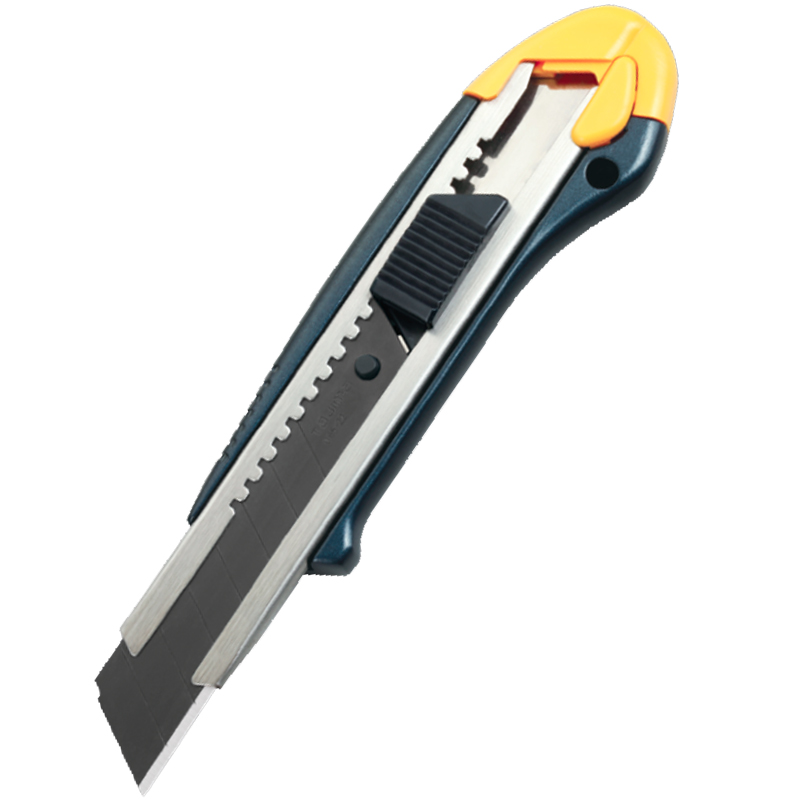cutter: (89, 3, 695, 793)
